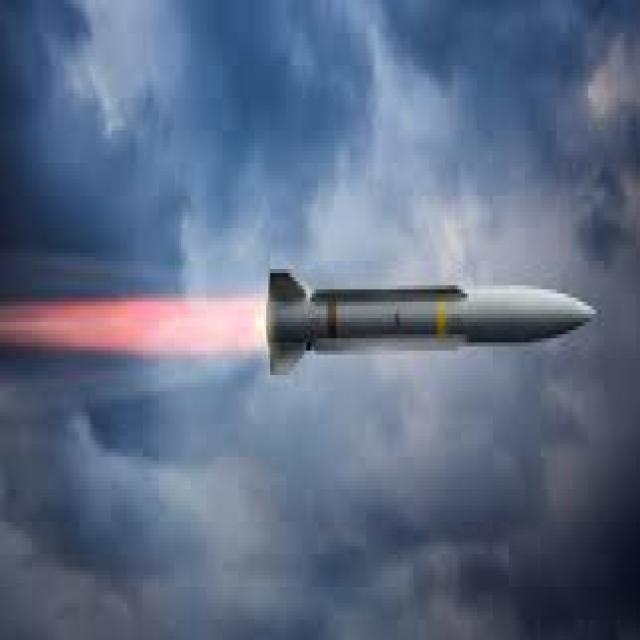Missile: (263, 247, 603, 387)
